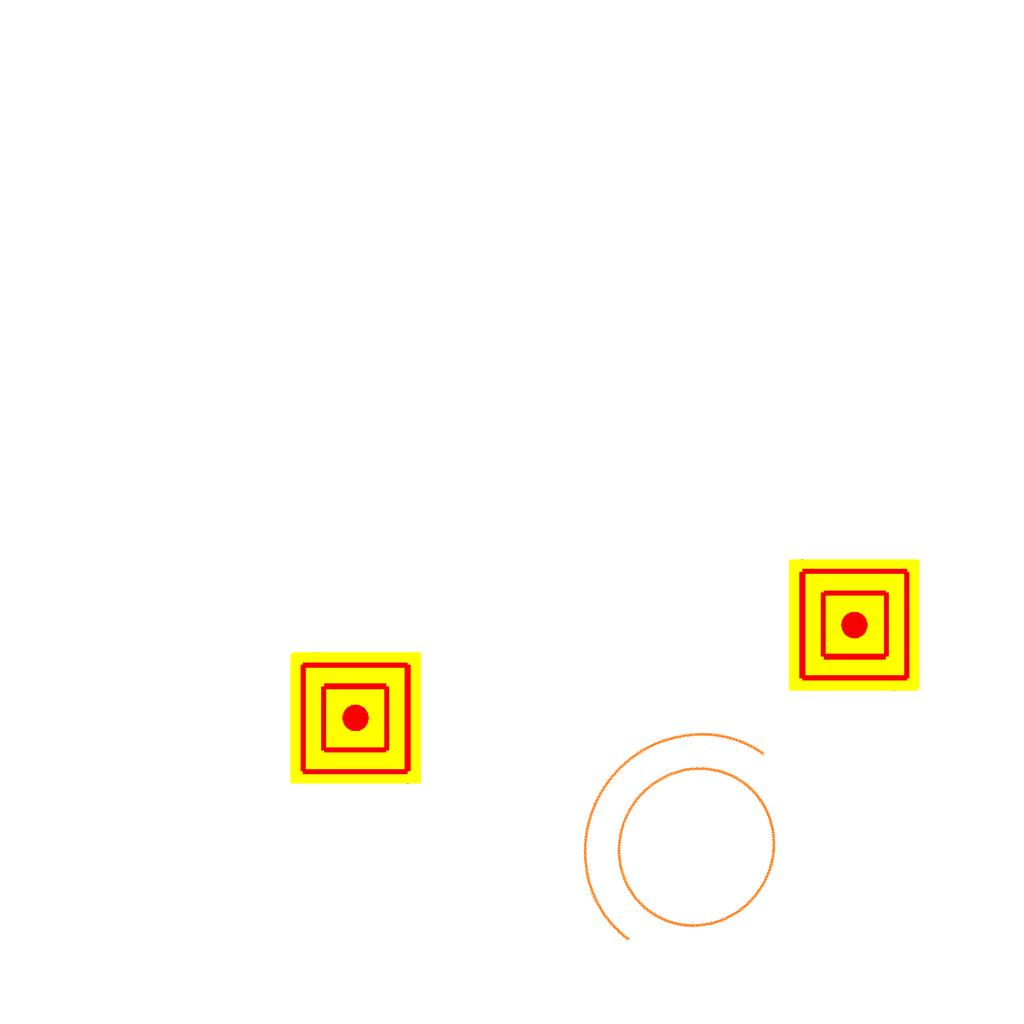NAM-Nichtautomatischer_Melder: (290, 652, 422, 784), (788, 559, 920, 691)
Scheinwerfer_fuer_Alarmbeleuchtung: (516, 673, 854, 1020)
